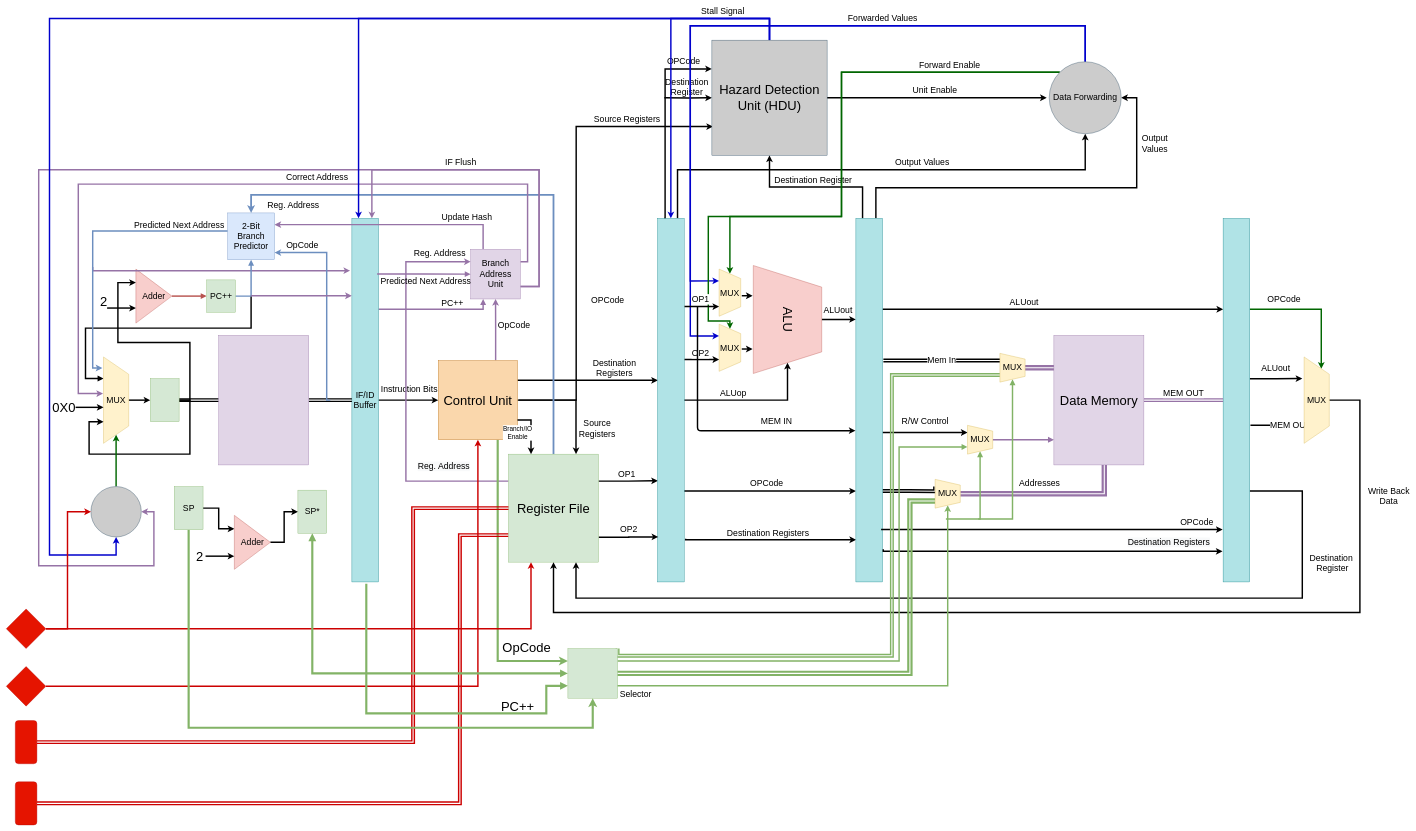
Image size: 1416x831. Some labels were removed from this diagram. Each missing label, with the box of its shape:
EX/M Buffer: (856, 218, 883, 582)
ID/EX Buffer: (657, 218, 684, 582)
IN Port: (15, 720, 37, 764)
Instruction Memory: (218, 335, 309, 465)
INT: (6, 666, 46, 706)
M/WB Buffer: (1223, 218, 1250, 582)
OUT Port: (15, 781, 37, 825)
PC: (150, 378, 179, 422)
PC Control Unit: (91, 486, 141, 537)
RESET: (6, 609, 46, 649)
SPU: (568, 648, 618, 698)
